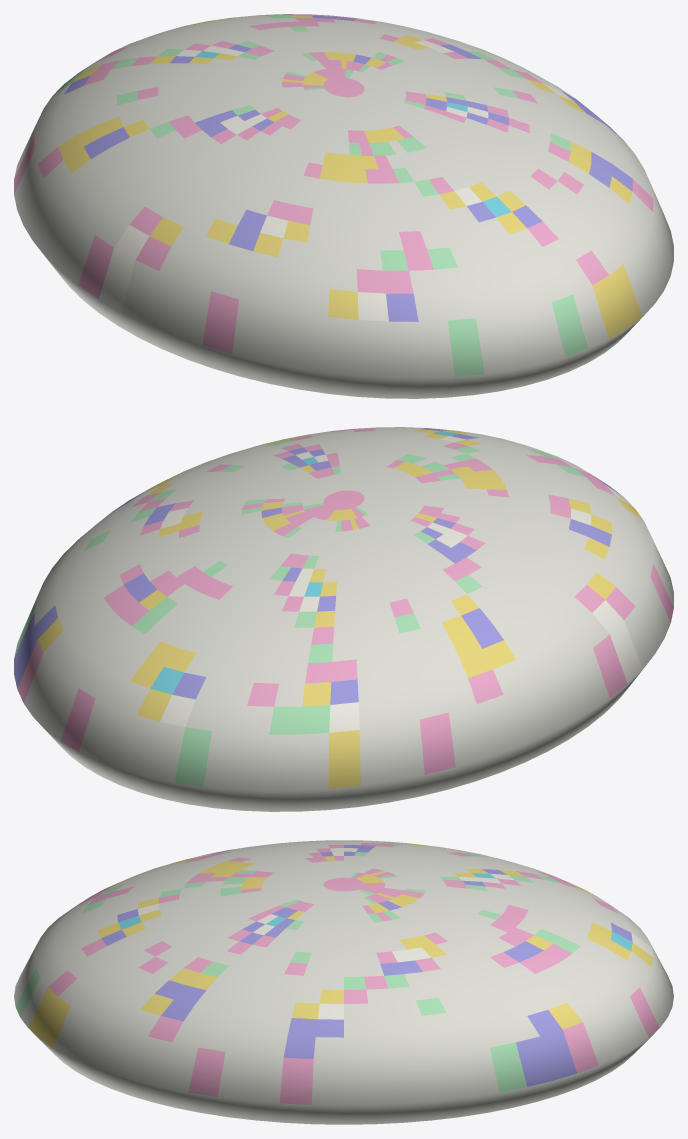
The model's file is stone-opal.glb.
The picture shows the model from 3 angles, top to bottom: view 1: azimuth 30°, elevation 25°; view 2: azimuth 150°, elevation 25°; view 3: azimuth 270°, elevation 25°; orthographic projection. The views are drawn at different scales.
Visible parts, largest first — view 1: Sculpture; view 2: Sculpture; view 3: Sculpture.
Boxes of the visible parts, x1,y1,x2,y2 form: Sculpture: [14, 14, 673, 398]; Sculpture: [14, 427, 673, 811]; Sculpture: [14, 840, 673, 1124].
Bounding box in the file's own units: 2 × 0.6 × 2.56.
